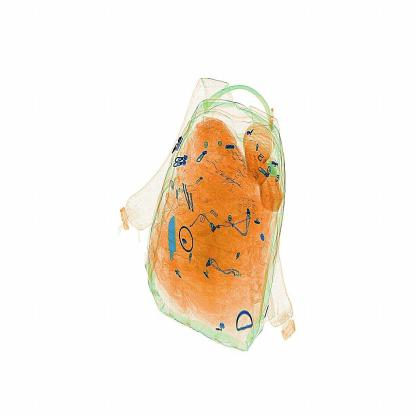wrench: (167, 218, 182, 290)
